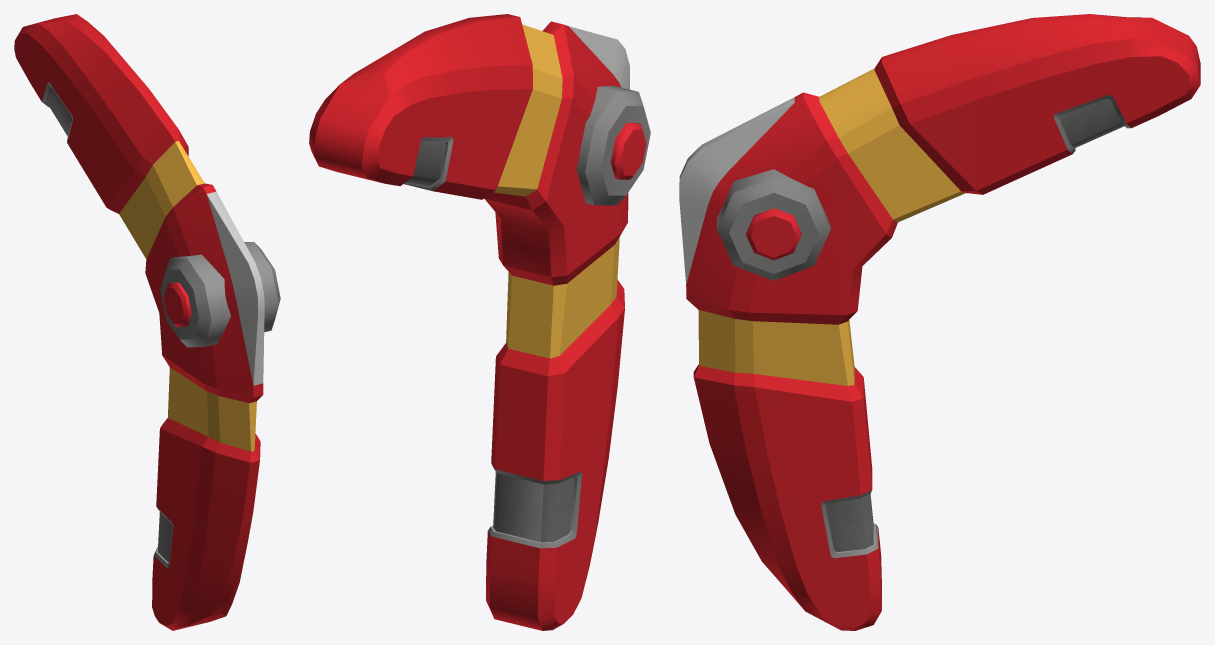
The model's file is SM_BoomBerang_1_B_SW.fbx.
3 views of the same model, side by side, from view 1: azimuth 30°, elevation 25°; view 2: azimuth 150°, elevation 25°; view 3: azimuth 270°, elevation 25° (orthographic). The views are drawn at different scales.
Visible parts, largest first — view 1: SM_BoomBerang_1_B_SW; view 2: SM_BoomBerang_1_B_SW; view 3: SM_BoomBerang_1_B_SW.
Boxes of the visible parts, <box> form: SM_BoomBerang_1_B_SW: <box>14,14,280,630</box>; SM_BoomBerang_1_B_SW: <box>309,14,650,630</box>; SM_BoomBerang_1_B_SW: <box>679,14,1200,630</box>.
Bounding box in the file's own units: 0.0582 × 0.3088 × 0.2418.
